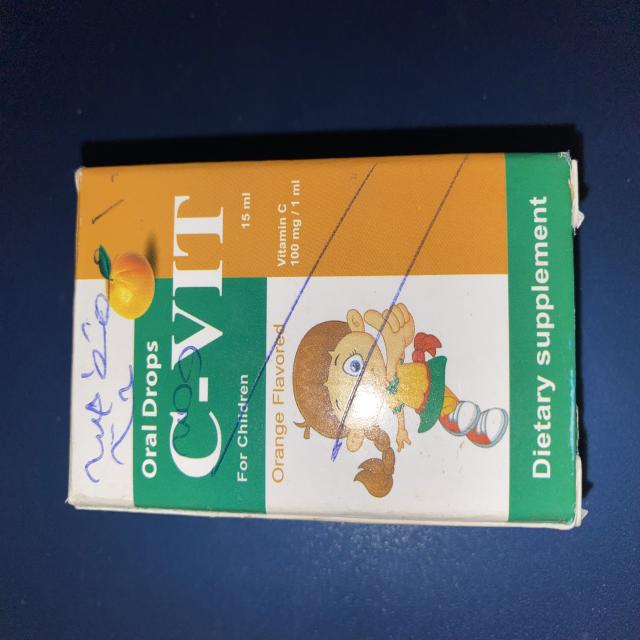C-VIT: (56, 130, 594, 550)
